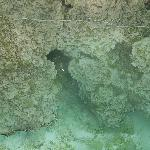dead: (1, 1, 143, 147)
